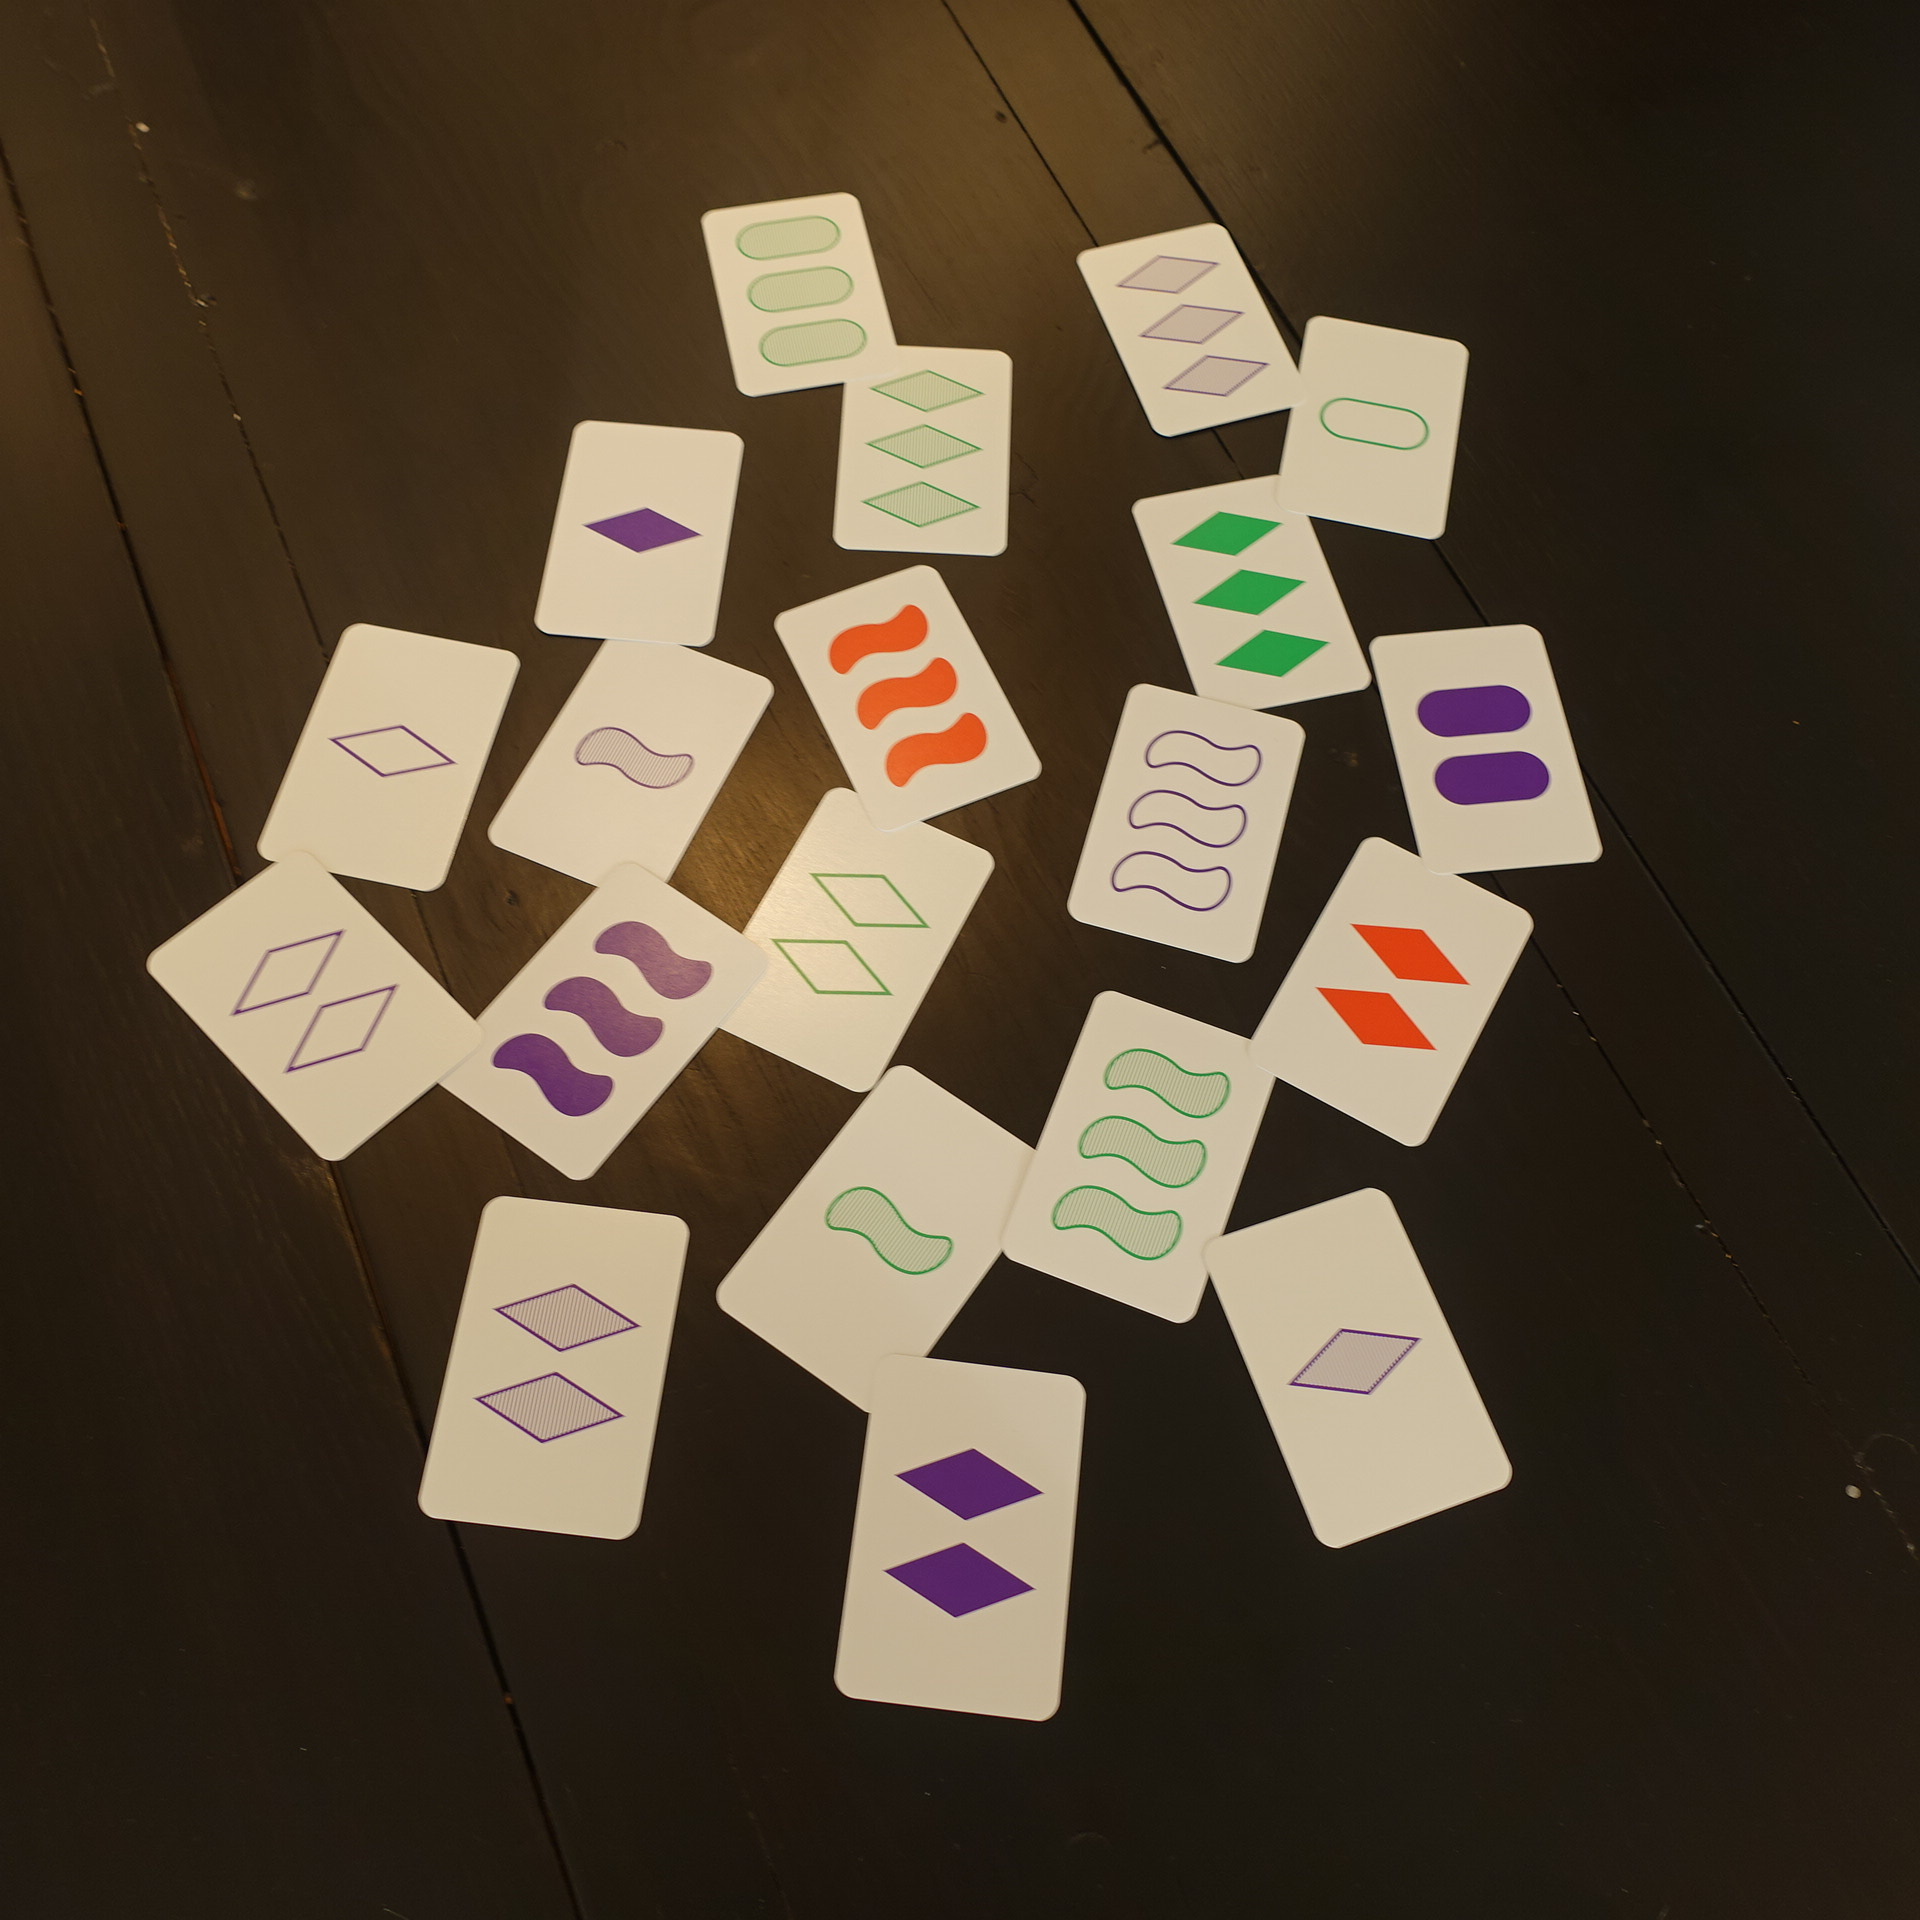c-1-f-d-r: (529, 413, 751, 658)
c-1-h-d-r: (1190, 1182, 1524, 1560)
c-1-h-s-r: (709, 1055, 1085, 1422), (480, 612, 781, 909)
c-1-u-d-r: (253, 617, 522, 907)
c-1-u-o-r: (1275, 309, 1479, 549)
c-2-f-d-r: (823, 1343, 1101, 1732), (1236, 830, 1545, 1155)
c-2-f-o-r: (1354, 612, 1611, 883)
c-2-h-d-r: (413, 1183, 696, 1547)
c-2-u-d-r: (142, 842, 491, 1176), (696, 777, 1000, 1099)
c-3-f-d-r: (1124, 469, 1382, 721)
c-3-f-s-r: (441, 855, 779, 1189), (772, 556, 1051, 839)
c-3-h-d-r: (1069, 216, 1315, 445), (825, 338, 1022, 571)
c-3-h-o-r: (695, 183, 902, 403)
c-3-h-s-r: (1000, 978, 1291, 1335)
c-3-u-s-r: (1058, 673, 1313, 971)
